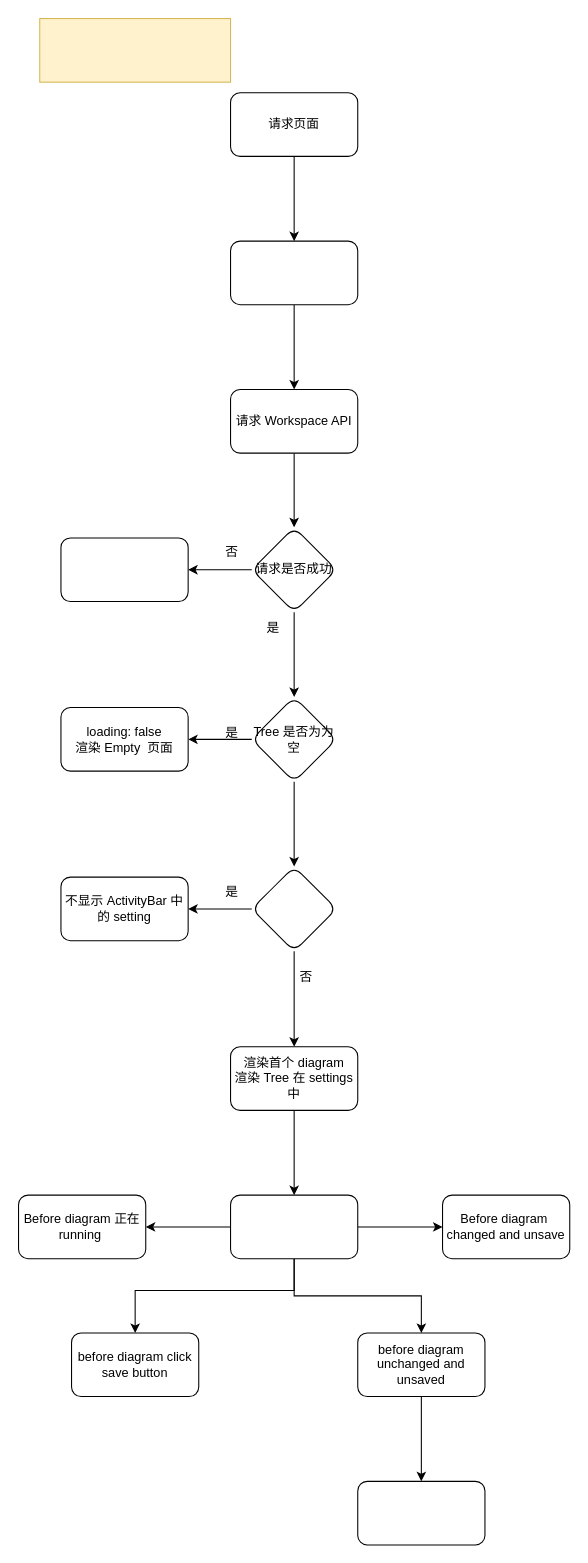
The diagram is 588 pixels wide and 1563 high, and some of its shapes have lost their labels. The shapes that lost their labels are listed below. From the top down, each one's centre as x and y in pixels, then its label:
At (135,49): "Workspace diagram".
At (293,272): "通过 client 获取 Workspace info".
At (124,569): "loading: true 渲染 loading 页面".
At (294,908): "Tree 是否为single diagram".
At (293,1226): "在setting Tree 点击切换 diagram".
At (421,1512): "重新渲染 new diagram （重新 init)".
